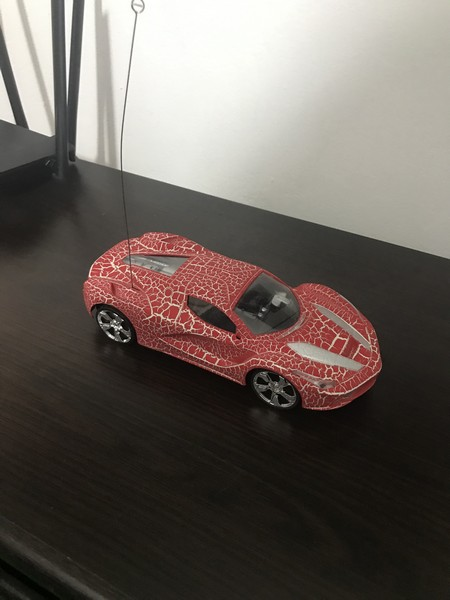RC: (81, 229, 386, 416)
